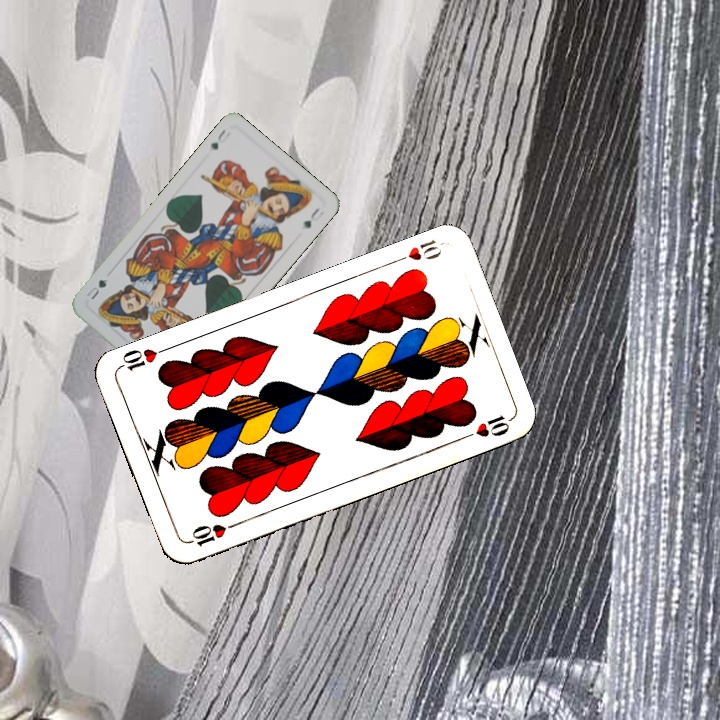GU: (206, 125, 228, 152)
H10: (388, 235, 445, 267), (184, 519, 241, 549)
